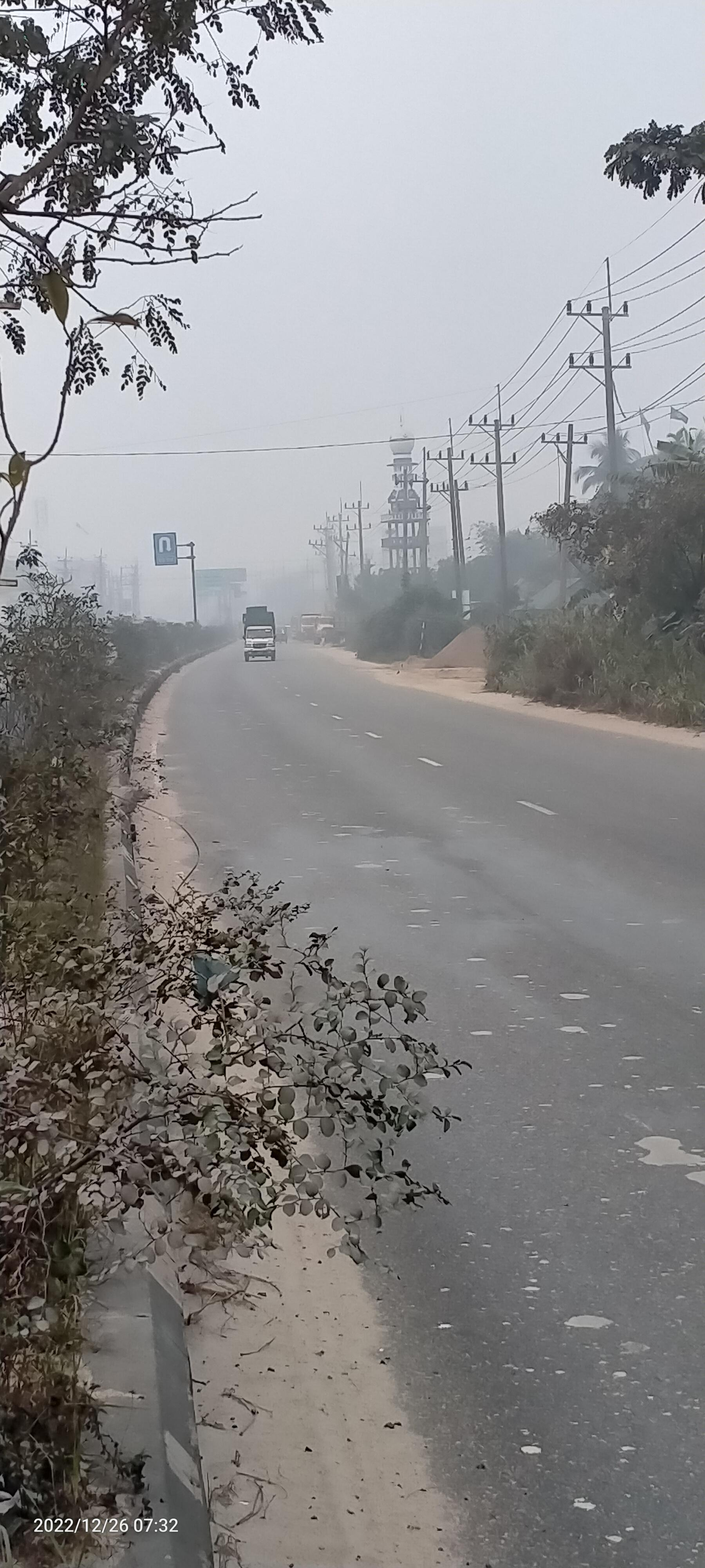Truck: (230, 598, 286, 674)
